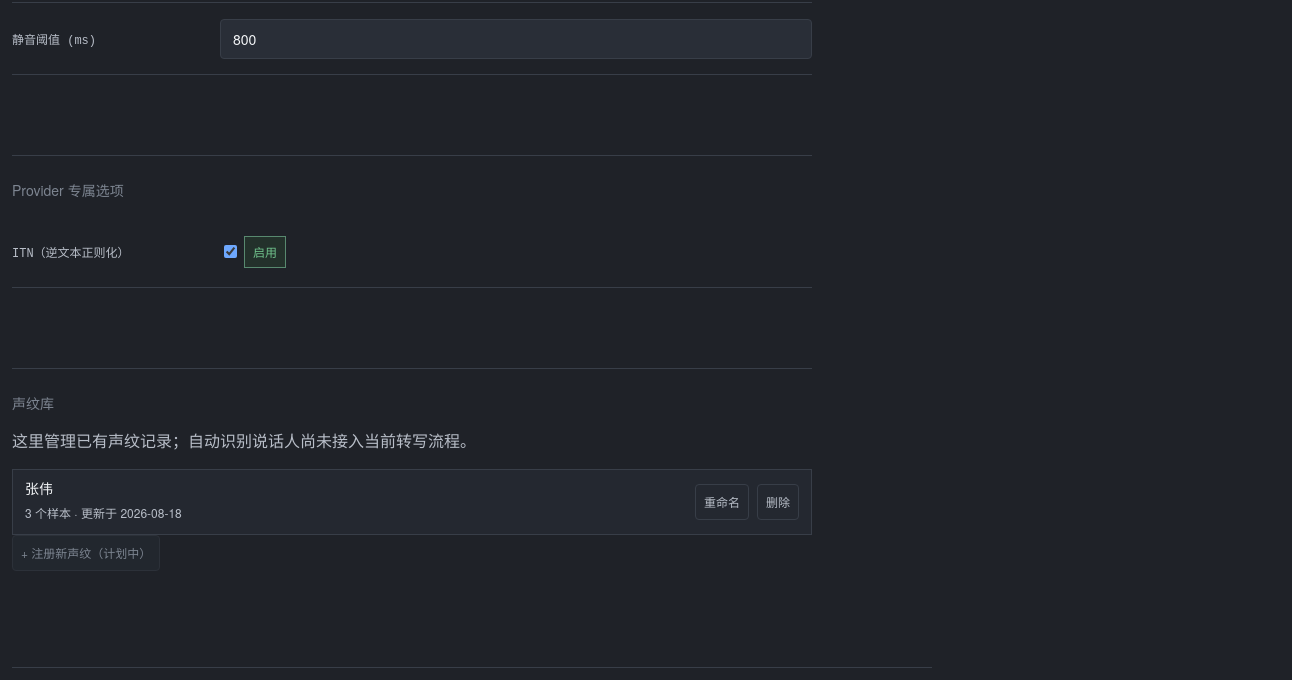
Asr settings voiceprint actions › renames and deletes voiceprints through page-level actions, and disables incomplete registration
(page scrolled)
expect the text "张伟" is shown: met, box [25, 482, 53, 498]
Click the button "重命名" at (722, 502), box [695, 484, 749, 520]
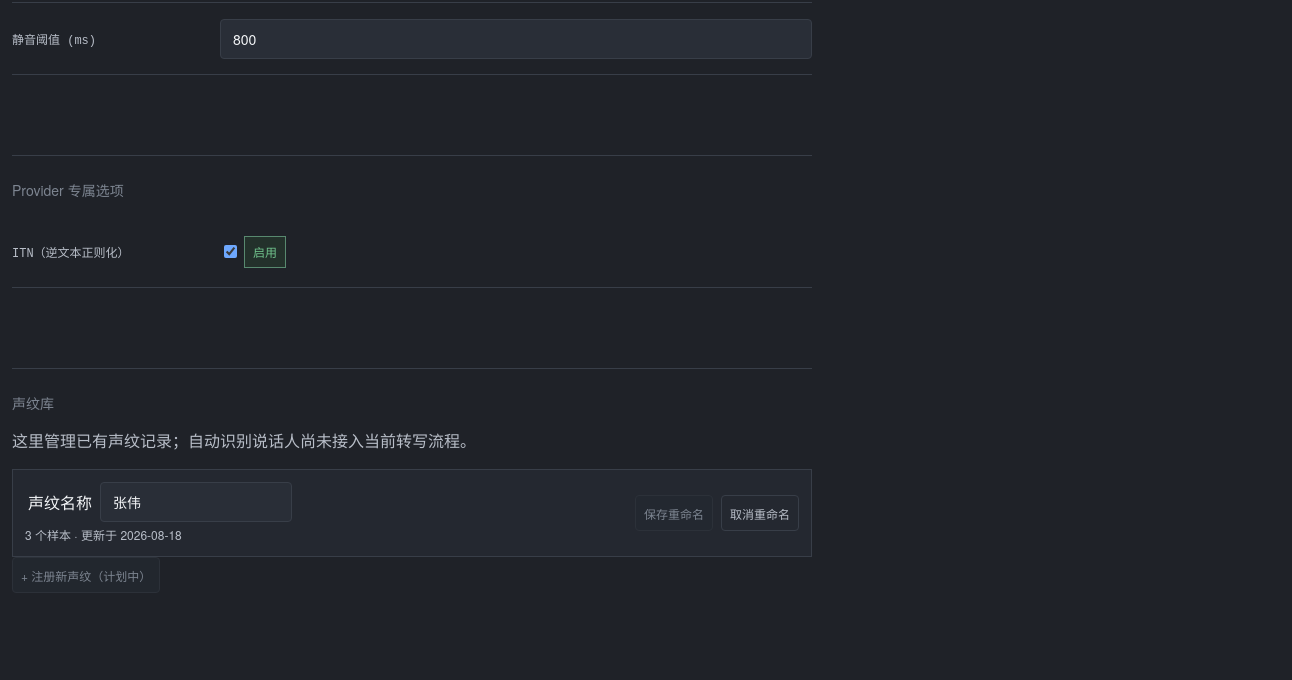
Replace the text in the field labelled "声纹名称" with "张总" at (196, 502), box [100, 482, 292, 522]
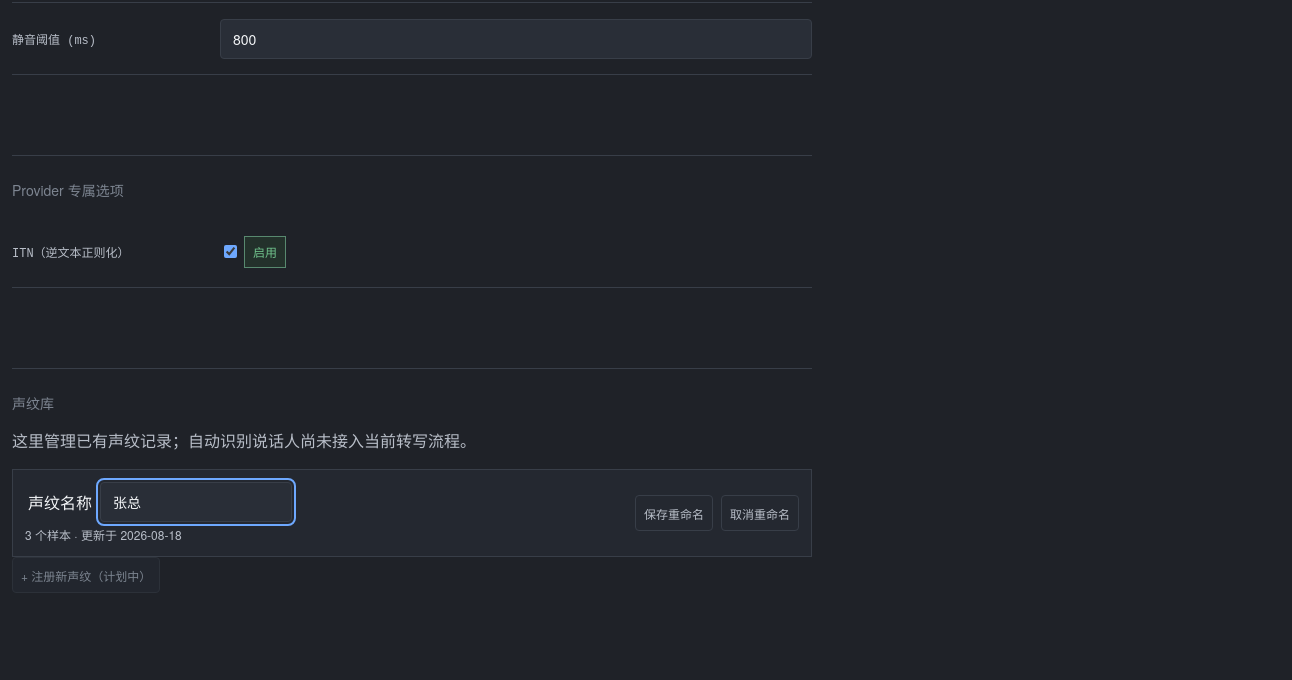
Click the button "保存重命名" at (674, 513), box [635, 495, 713, 531]
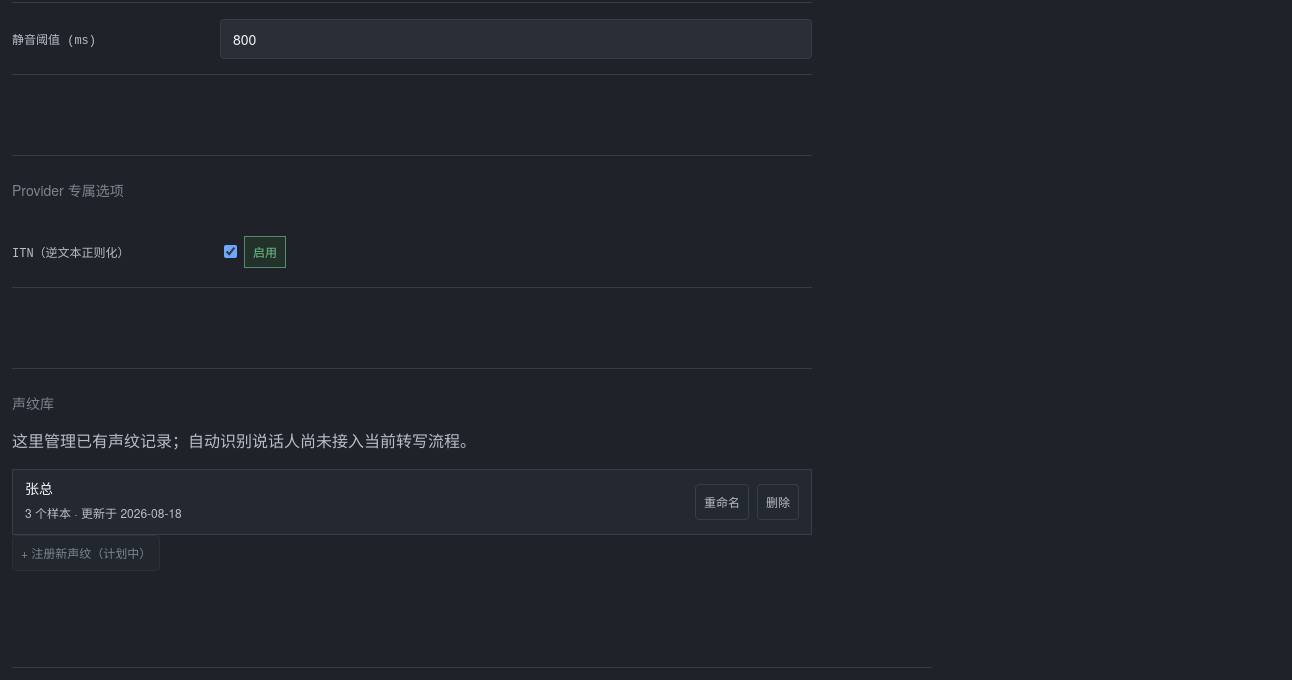
expect the text "张总" is shown: met, box [25, 482, 53, 498]
Click the button "删除" at (778, 502), box [757, 484, 799, 520]
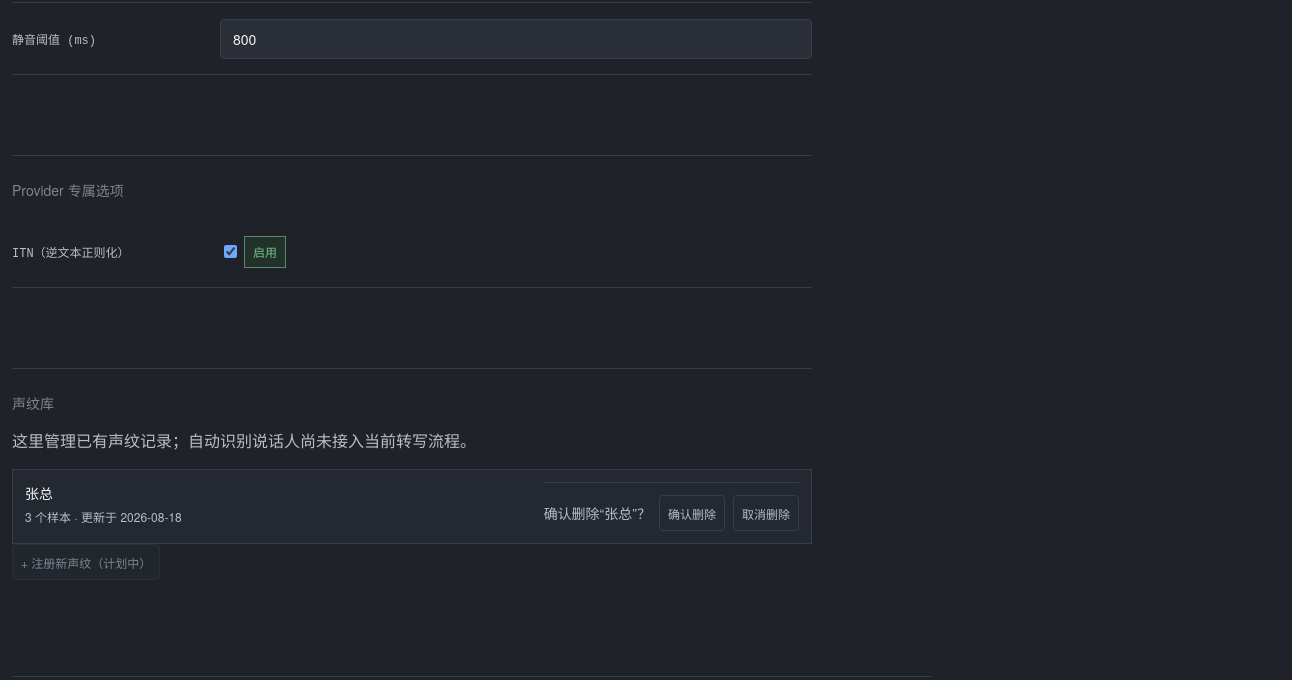
expect the text "确认删除“张总”？" is shown: met, box [544, 503, 651, 523]
Click the button "确认删除" at (692, 513), box [659, 495, 725, 531]
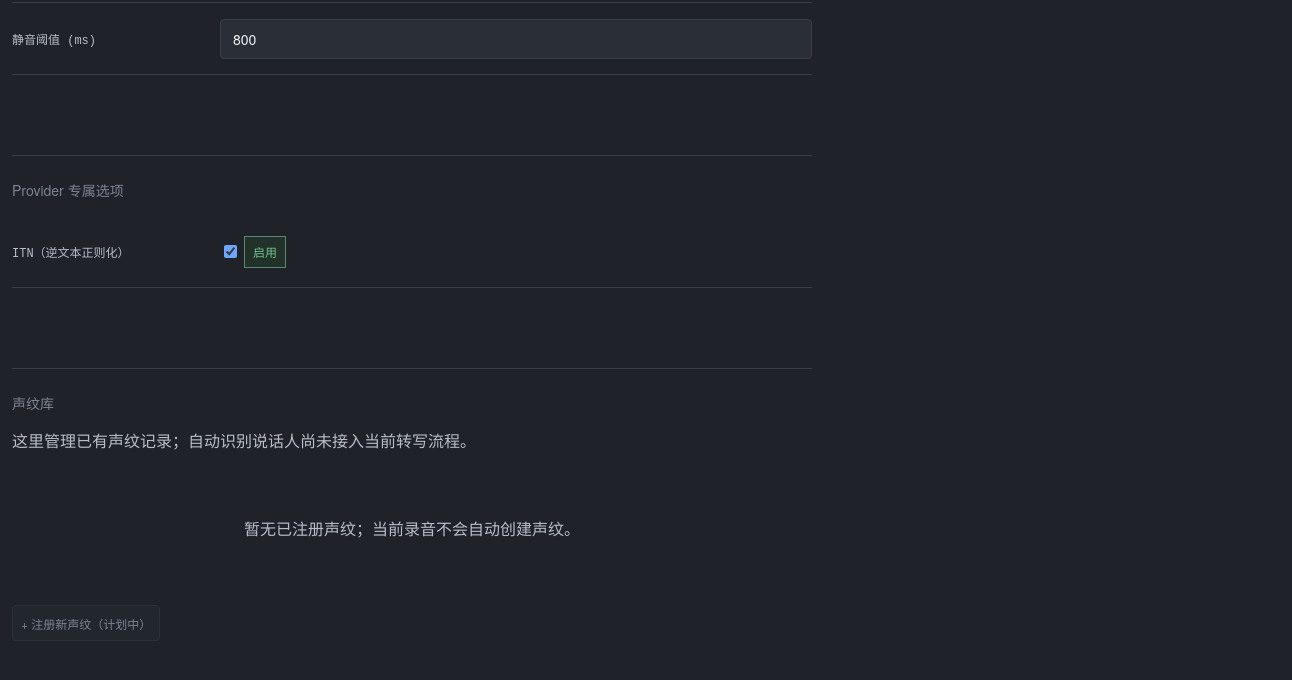
expect the button "+ 注册新声纹（计划中）" is disabled: met, box [12, 605, 160, 641]
expect the text "张总" is gone: met
